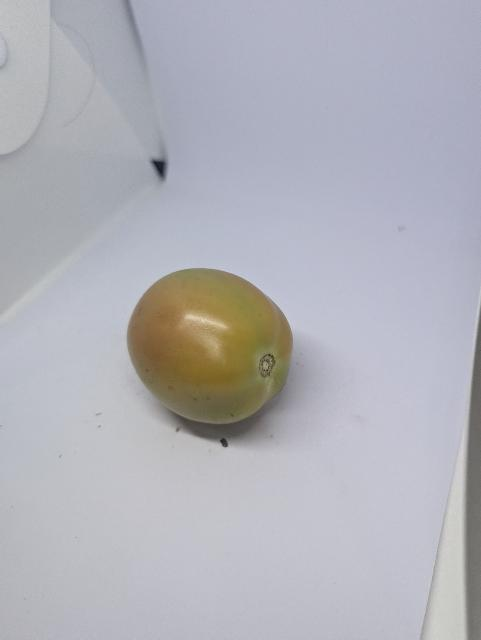breaker: (128, 269, 293, 424)
